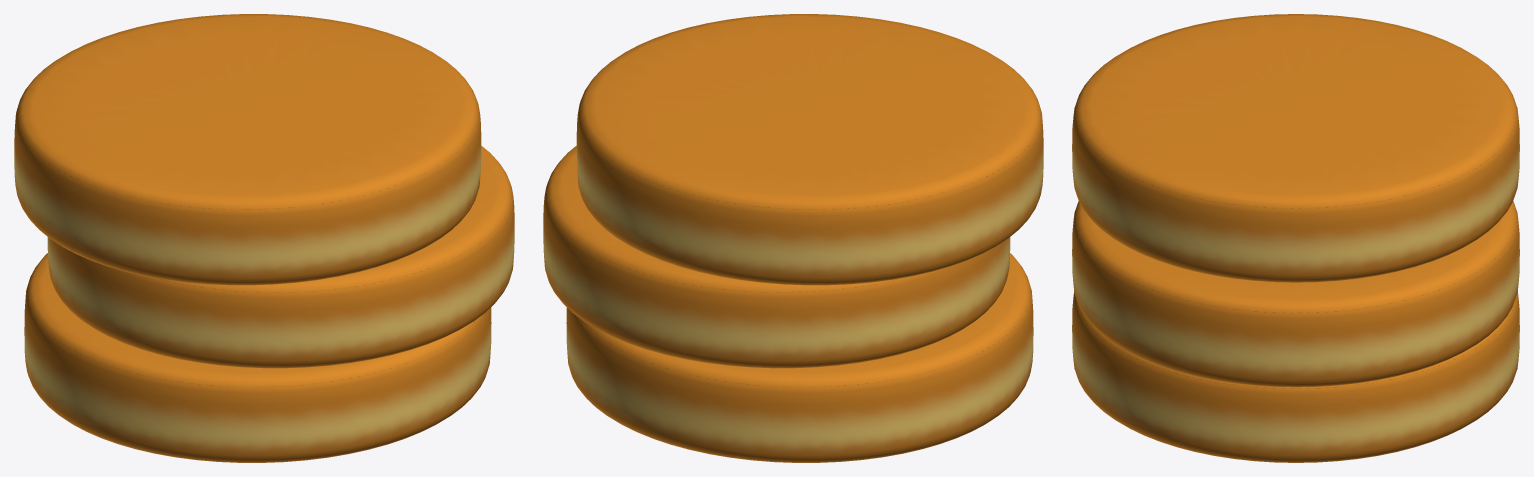
File: 3HotcakesPilePrefab.obj
3 views of the same model, side by side, from view 1: azimuth 30°, elevation 25°; view 2: azimuth 150°, elevation 25°; view 3: azimuth 270°, elevation 25° (orthographic). The views are drawn at different scales.
Parts seen in each view (by area): view 1: HotCake.008, HotCake.006, HotCake.007; view 2: HotCake.008, HotCake.006, HotCake.007; view 3: HotCake.008, HotCake.007, HotCake.006.
Part boxes in pixels (x1,y1,x2,y2): HotCake.008: (14, 14, 481, 285); HotCake.006: (24, 253, 491, 462); HotCake.007: (47, 146, 514, 368); HotCake.008: (576, 14, 1043, 285); HotCake.006: (566, 253, 1033, 462); HotCake.007: (543, 146, 1010, 368); HotCake.008: (1072, 14, 1519, 282); HotCake.007: (1072, 201, 1519, 387); HotCake.006: (1072, 291, 1519, 462).
Size of the model in its own units: 4.96 by 2.9 by 4.48.
